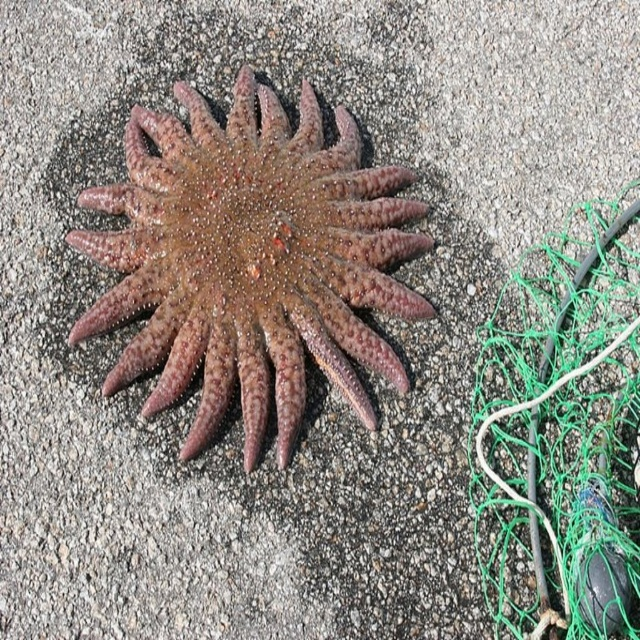Starfish: (65, 66, 437, 473)
